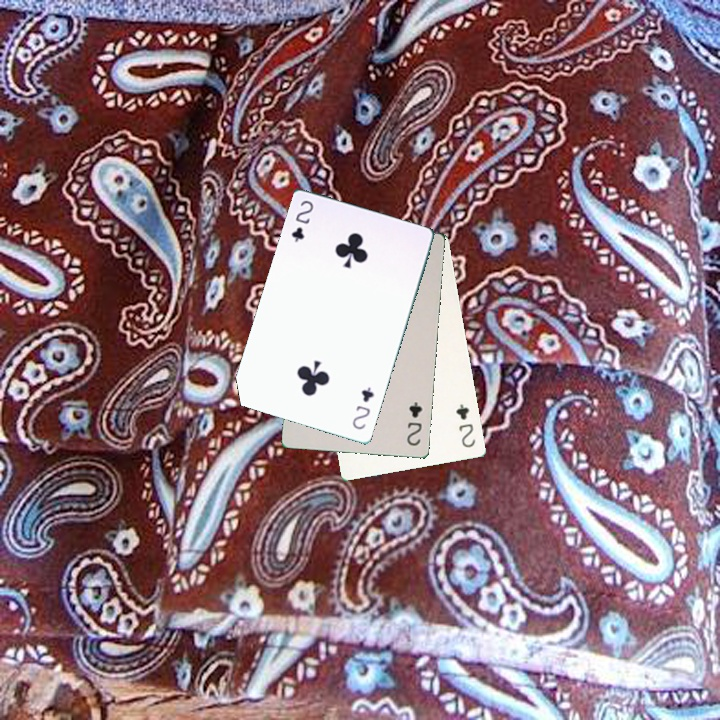2c: (287, 196, 316, 245), (348, 383, 376, 432), (452, 400, 478, 450), (403, 398, 425, 448)
